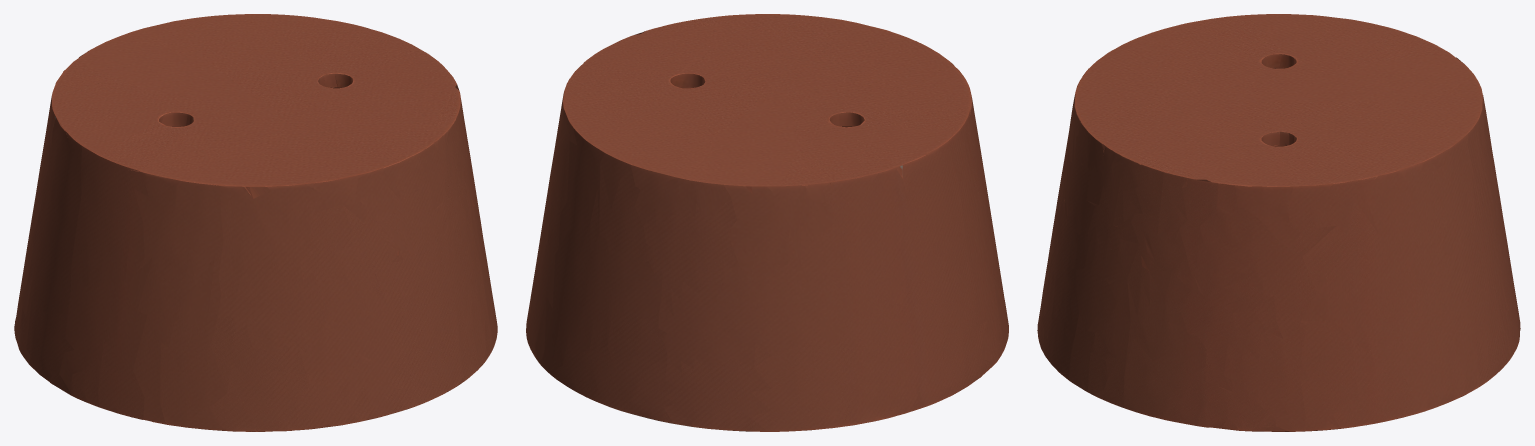
The model's file is Meshy_AI_Rubber_Cork_Stand_Rem_0924171108_texture.glb.
The picture shows the model from 3 angles, left to right: view 1: azimuth 30°, elevation 25°; view 2: azimuth 150°, elevation 25°; view 3: azimuth 270°, elevation 25°; orthographic projection.
Parts seen in each view (by area): view 1: output_unwrapped; view 2: output_unwrapped; view 3: output_unwrapped.
Part boxes in pixels (left/top/right/bottom): output_unwrapped: left=14, top=14, right=497, bottom=431; output_unwrapped: left=526, top=14, right=1008, bottom=431; output_unwrapped: left=1037, top=14, right=1520, bottom=431.
Size of the model in its own units: 1.9 by 0.9992 by 1.9.
Materials: 1 (1 with a texture image).
